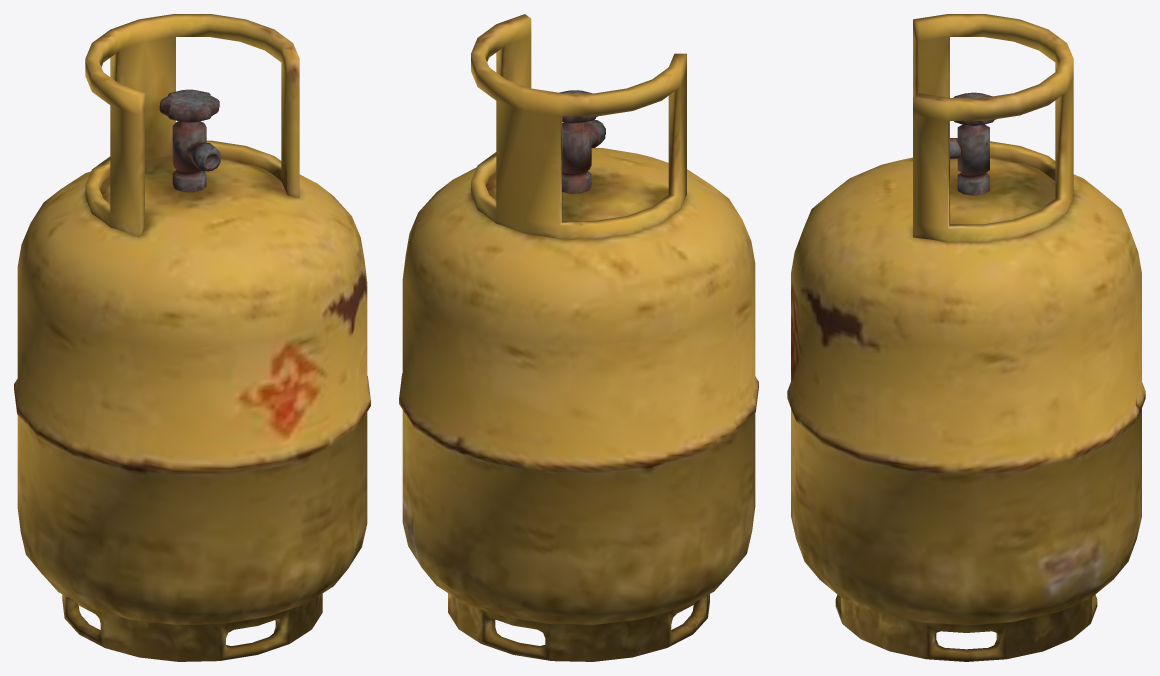
File: propane-tank--1.gltf
3 views of the same model, side by side, from view 1: azimuth 30°, elevation 25°; view 2: azimuth 150°, elevation 25°; view 3: azimuth 270°, elevation 25° (orthographic).
Parts seen in each view (by area): view 1: cylinder.small1, rim.small1, valve.small1, tap.small1; view 2: cylinder.small1, rim.small1, valve.small1; view 3: cylinder.small1, rim.small1, valve.small1.
Part boxes in pixels (x1,y1,x2,y2): cylinder.small1: [14, 156, 370, 661]; rim.small1: [85, 14, 299, 237]; valve.small1: [172, 121, 220, 192]; tap.small1: [159, 89, 219, 122]; cylinder.small1: [399, 148, 758, 661]; rim.small1: [471, 14, 686, 239]; valve.small1: [562, 120, 605, 193]; cylinder.small1: [787, 156, 1145, 661]; rim.small1: [913, 14, 1073, 242]; valve.small1: [950, 124, 989, 195].
Size of the model in its own units: 0.3556 by 0.6 by 0.3556.
Materials: 4 (4 with a texture image).
